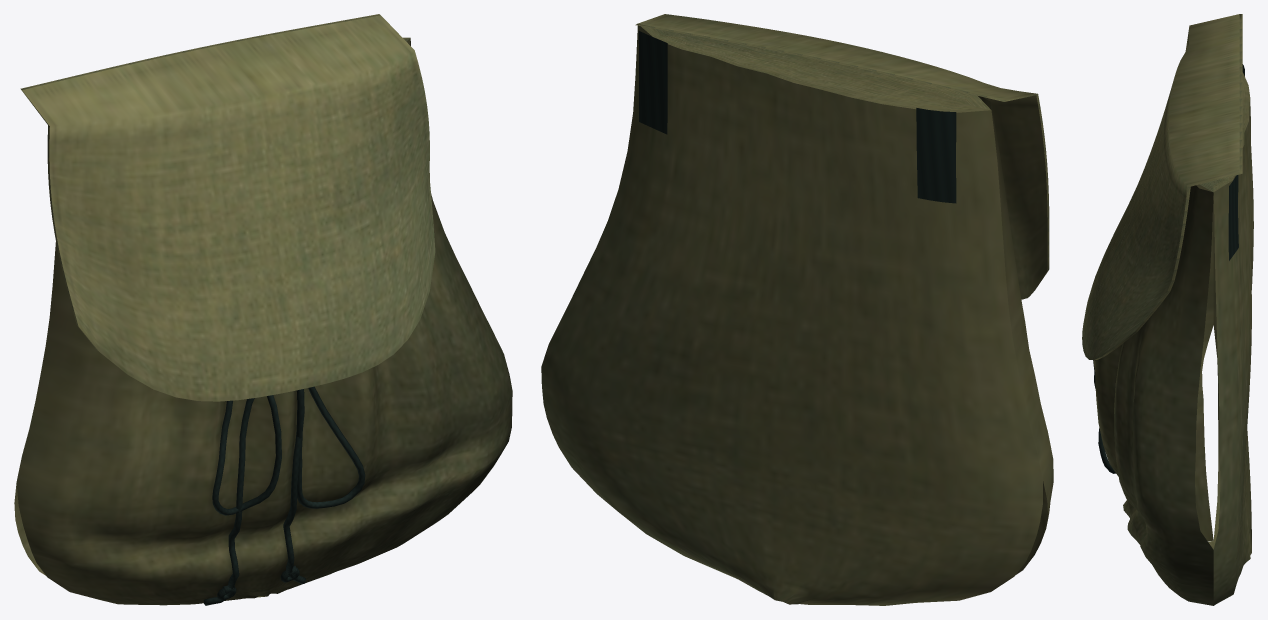
Rendered from OliveClothPouch.glb.
3 renders of one model, left to right at view 1: azimuth 30°, elevation 25°; view 2: azimuth 150°, elevation 25°; view 3: azimuth 270°, elevation 25°, orthographic. The views are drawn at different scales.
Parts seen in each view (by area): view 1: Olive cloth pouch; view 2: Olive cloth pouch; view 3: Olive cloth pouch.
Boxes of the visible parts, box(x1,y1,x2,y2) form: Olive cloth pouch: box(14, 14, 512, 605); Olive cloth pouch: box(541, 14, 1053, 605); Olive cloth pouch: box(1082, 14, 1253, 605).
Size of the model in its own units: 0.9614 by 1 by 0.3443.
1 material, 1 textured.
